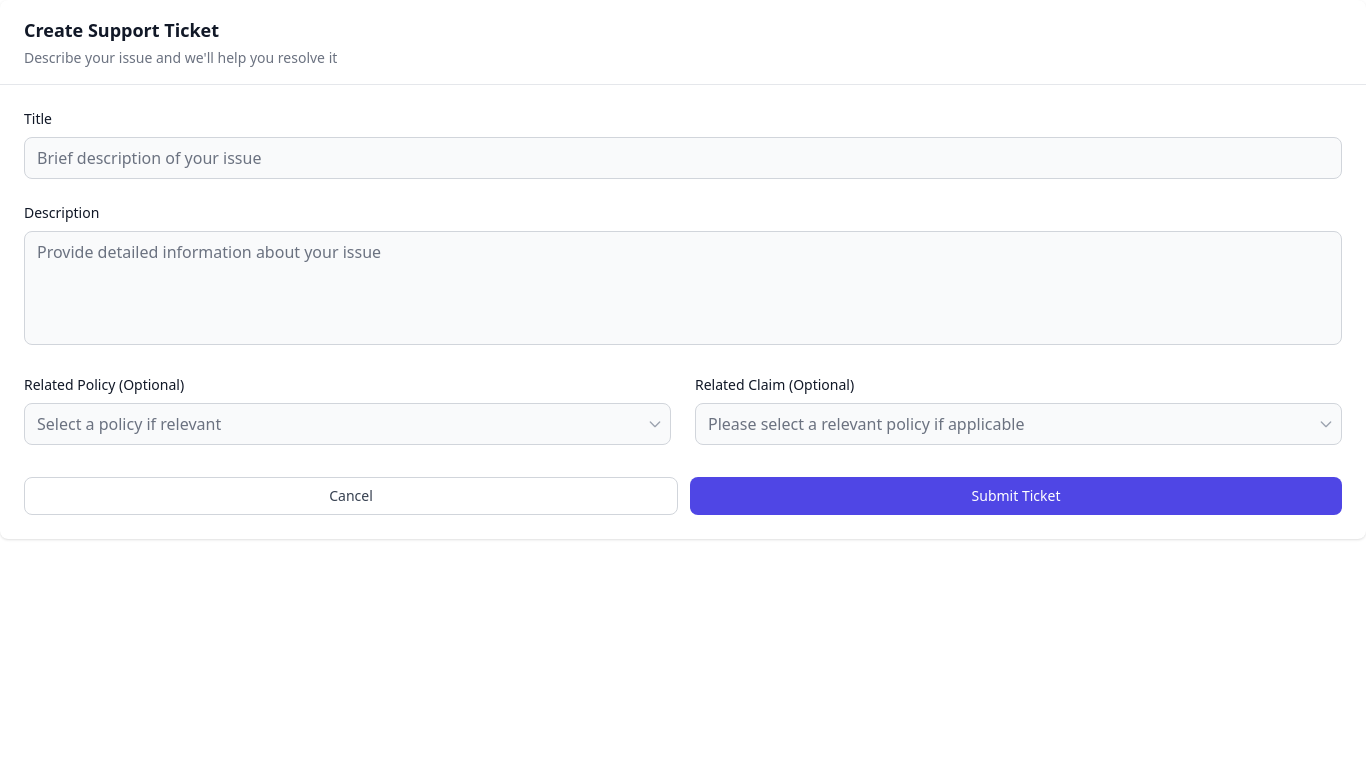
Test: CreateTicketForm.vue › Loading States › should show submitting state during form submission
The image size is (1366, 768).
In the field with id "subject": (683, 158) [24, 137, 1342, 179], type "Test Subject"
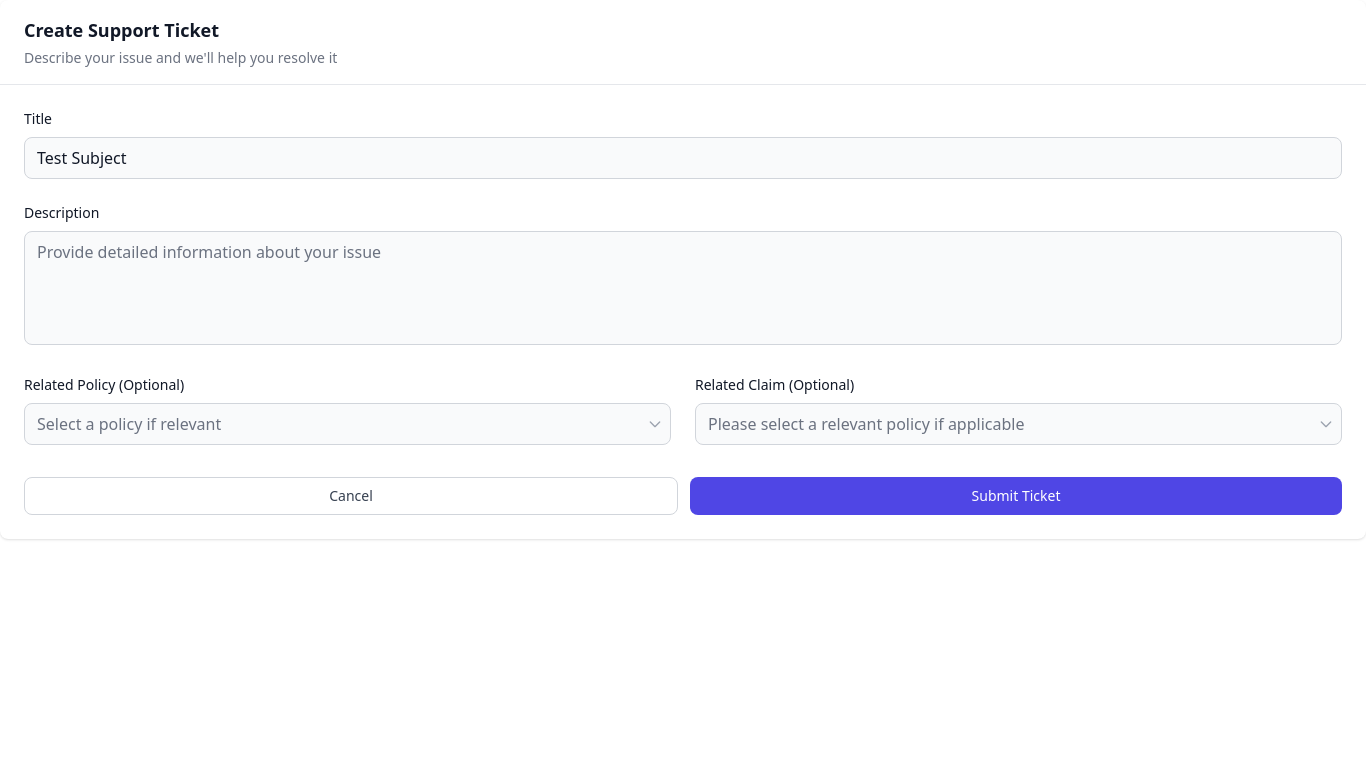
In the text box with id "description": (683, 288) [24, 231, 1342, 345], type "Test Description"
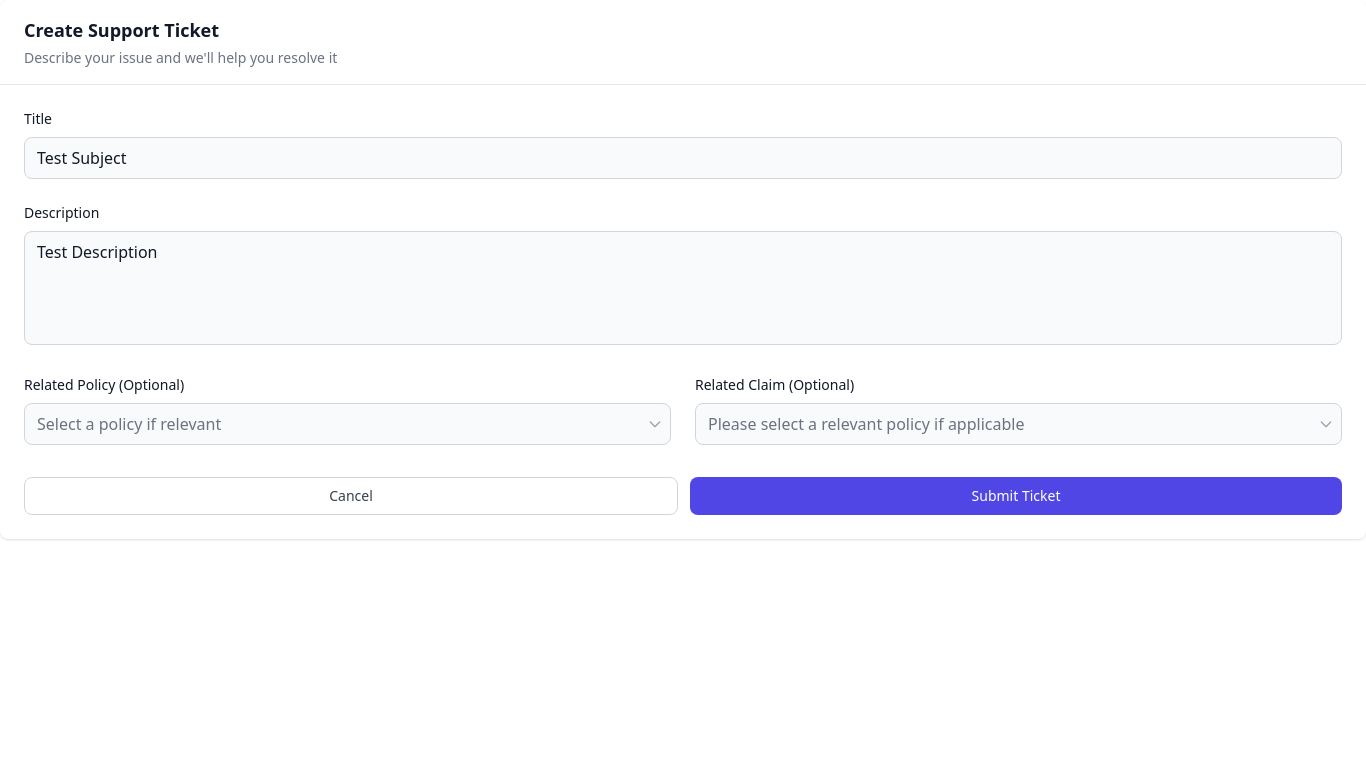
Submit the form, box [0, 85, 1365, 539]
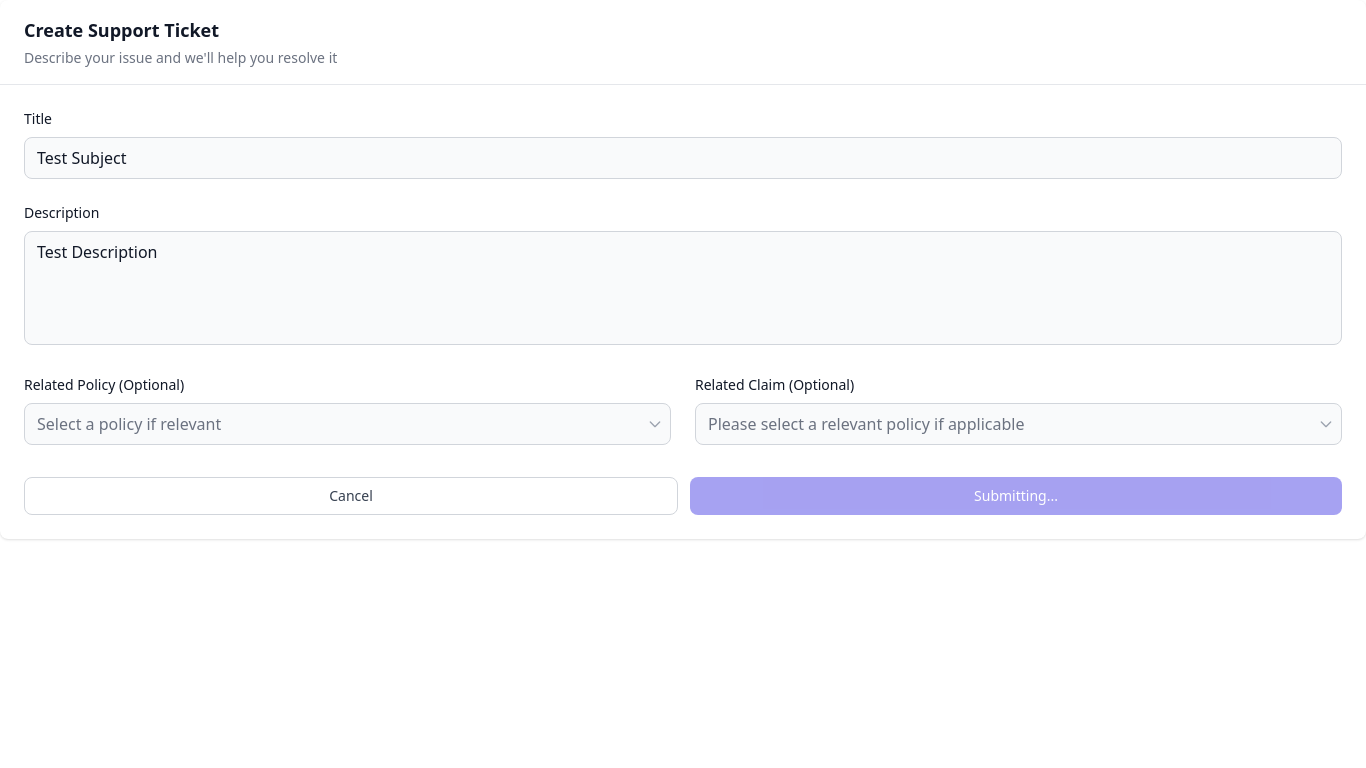
Check: the button "Submitting..." is shown, box [690, 477, 1342, 515]
